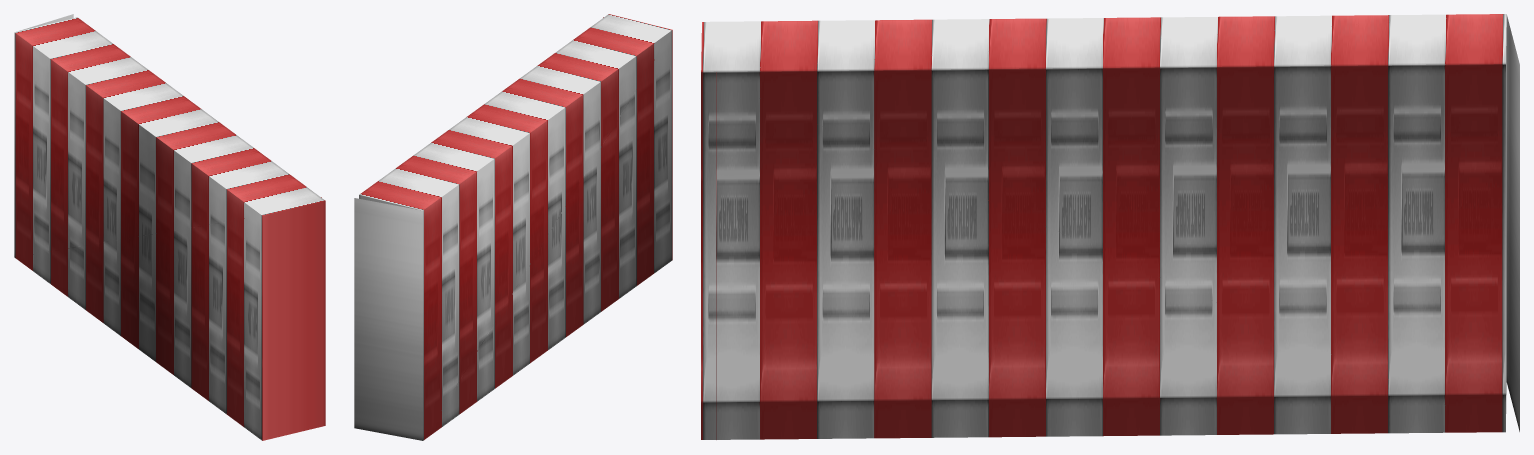
The model's file is obstacle.obj.
The picture shows the model from 3 angles, left to right: view 1: azimuth 30°, elevation 25°; view 2: azimuth 150°, elevation 25°; view 3: azimuth 270°, elevation 25°; orthographic projection. The views are drawn at different scales.
Visible parts, largest first — view 1: speedway_barriers_speedway_barriers.001; view 2: speedway_barriers_speedway_barriers.001; view 3: speedway_barriers_speedway_barriers.001.
Part boxes in pixels (box(x1,y1,x2,y2)): speedway_barriers_speedway_barriers.001: box(14, 14, 325, 440); speedway_barriers_speedway_barriers.001: box(354, 14, 672, 440); speedway_barriers_speedway_barriers.001: box(701, 14, 1519, 439).
Bounding box in the file's own units: 0.2542 × 0.8455 × 1.68.
Materials: 1 (1 with a texture image).
